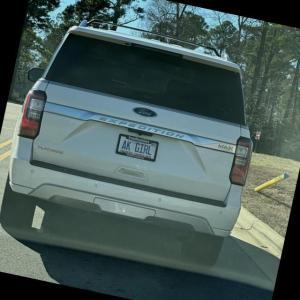Plate: (114, 133, 159, 163)
